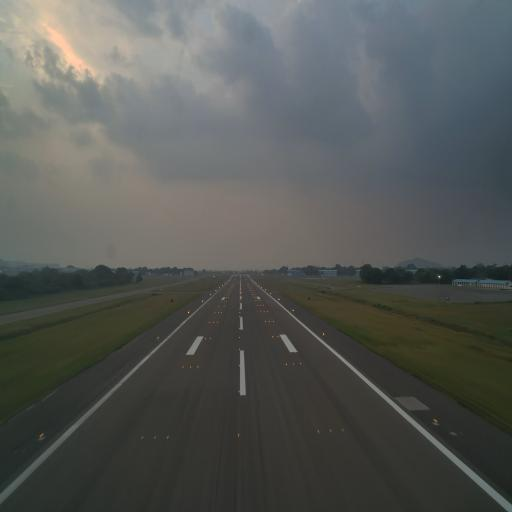on: (37, 430, 46, 442), (432, 415, 440, 427), (165, 434, 171, 444), (340, 424, 345, 434), (316, 426, 320, 438), (140, 434, 145, 442), (328, 426, 332, 436), (152, 433, 156, 441), (236, 431, 240, 439), (237, 386, 241, 394), (181, 364, 185, 370), (189, 363, 192, 370), (322, 331, 326, 336), (198, 336, 202, 340), (285, 362, 288, 367), (292, 361, 295, 366), (299, 361, 302, 366), (238, 346, 241, 351), (157, 335, 159, 341), (197, 364, 199, 370), (238, 363, 240, 368), (204, 336, 206, 340), (209, 336, 211, 340), (282, 334, 284, 338), (272, 335, 274, 338), (277, 335, 279, 338), (239, 335, 240, 339)
